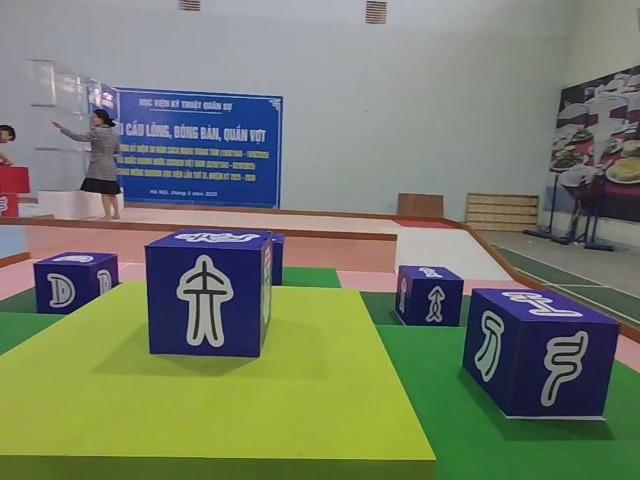R2 Fake Blue: (466, 291, 621, 424), (145, 228, 276, 359)
R2 Real Blue: (34, 251, 120, 315), (395, 264, 465, 327)
